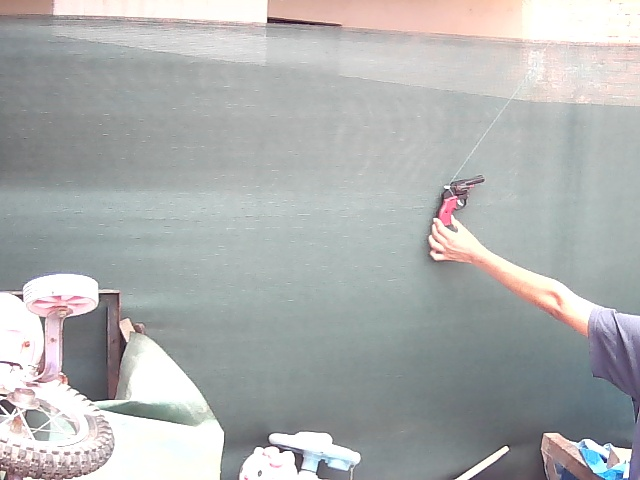pistola: (431, 169, 491, 228)
